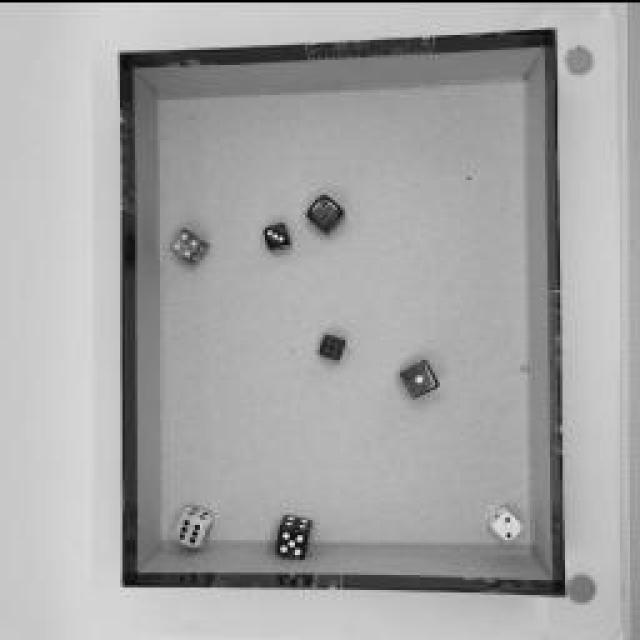dice_1: (398, 354, 442, 398)
dice_2: (308, 192, 348, 232), (485, 505, 525, 540)
dice_3: (262, 218, 292, 252)
dice_4: (170, 226, 210, 266), (319, 330, 349, 360)
dice_5: (275, 514, 315, 558)
dice_6: (175, 505, 215, 545)
